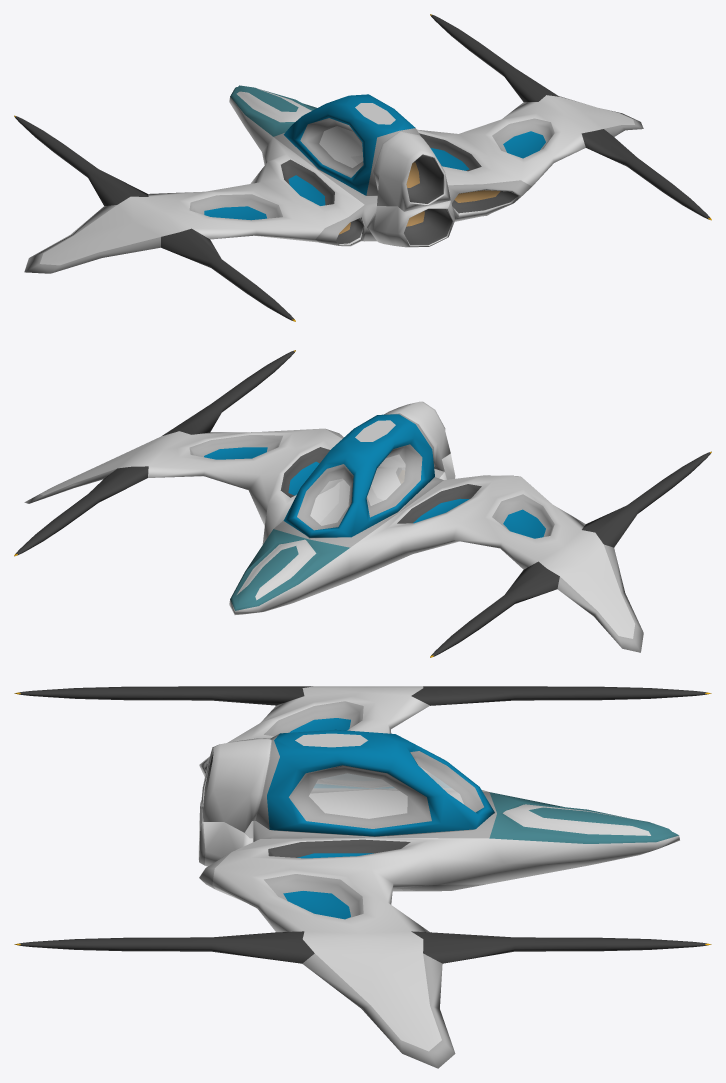
The model's file is blueship_smooth.fbx.
The picture shows the model from 3 angles, top to bottom: view 1: azimuth 30°, elevation 25°; view 2: azimuth 150°, elevation 25°; view 3: azimuth 270°, elevation 25°; orthographic projection. The views are drawn at different scales.
Parts seen in each view (by area): view 1: blueship_smooth; view 2: blueship_smooth; view 3: blueship_smooth.
Boxes of the visible parts, box(x1,y1,x2,y2) form: blueship_smooth: box(14, 14, 711, 321); blueship_smooth: box(14, 350, 711, 657); blueship_smooth: box(14, 686, 711, 1068).
Size of the model in its own units: 40.19 by 7.2 by 31.84.
